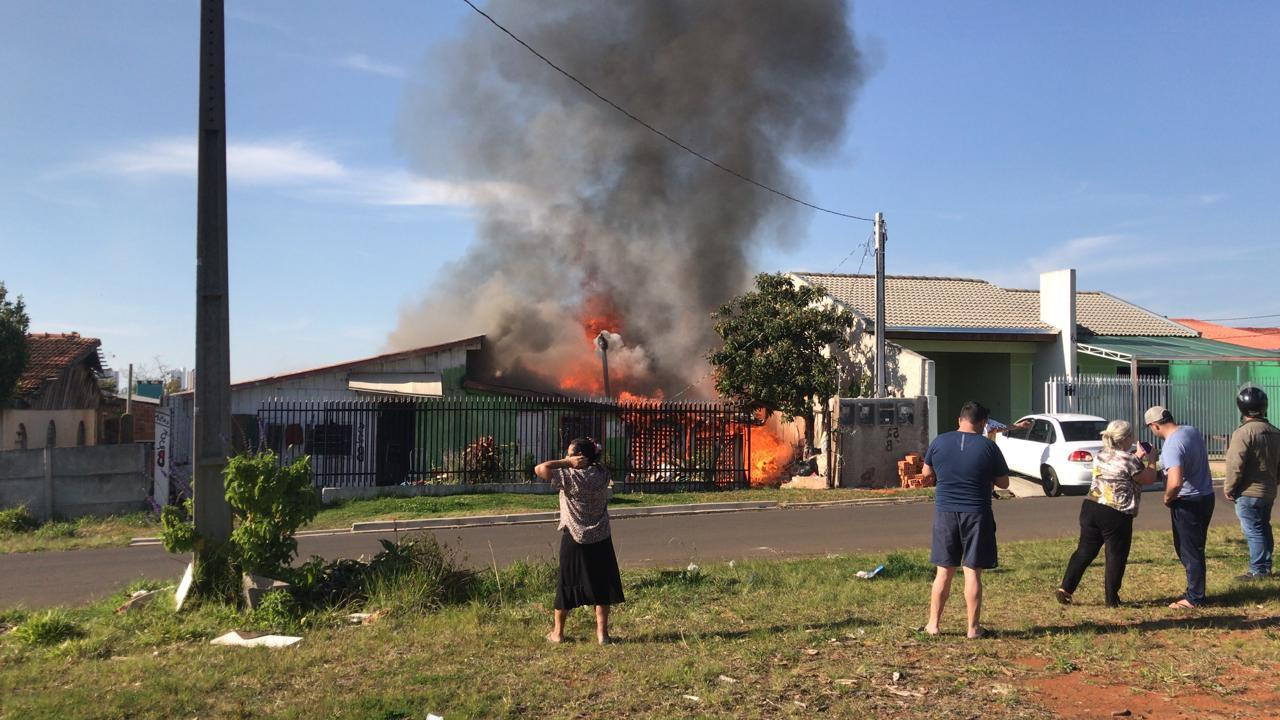Fire: (747, 425, 782, 481), (620, 388, 667, 405)
